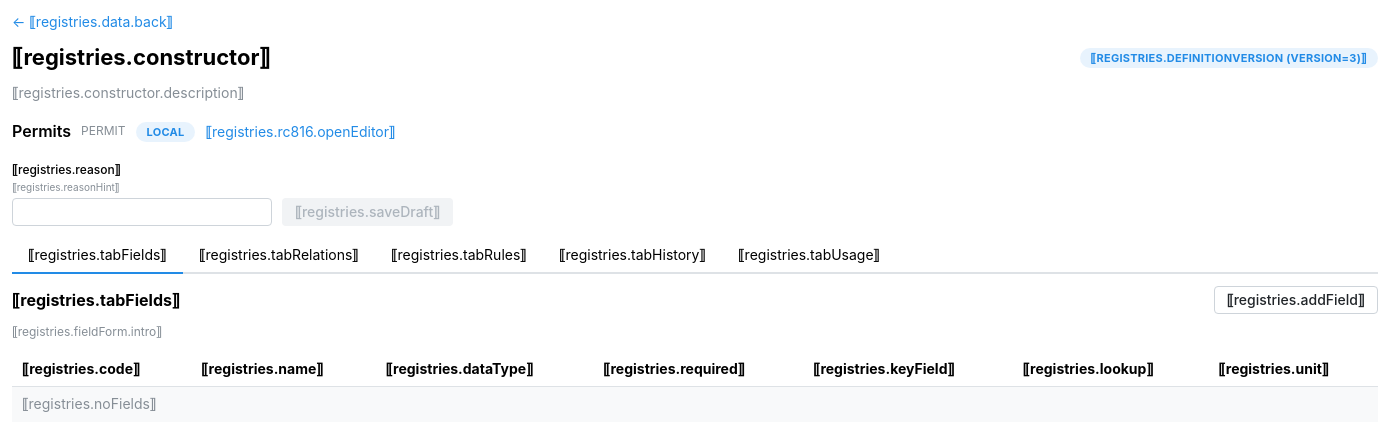
Конструктор довідника: «де використано» › усі посилання показано — «показано N із M» не малюється
Click the tab "⟦registries.tabUsage⟧": {"x": 809, "y": 256} x1=722 y1=238 x2=896 y2=274
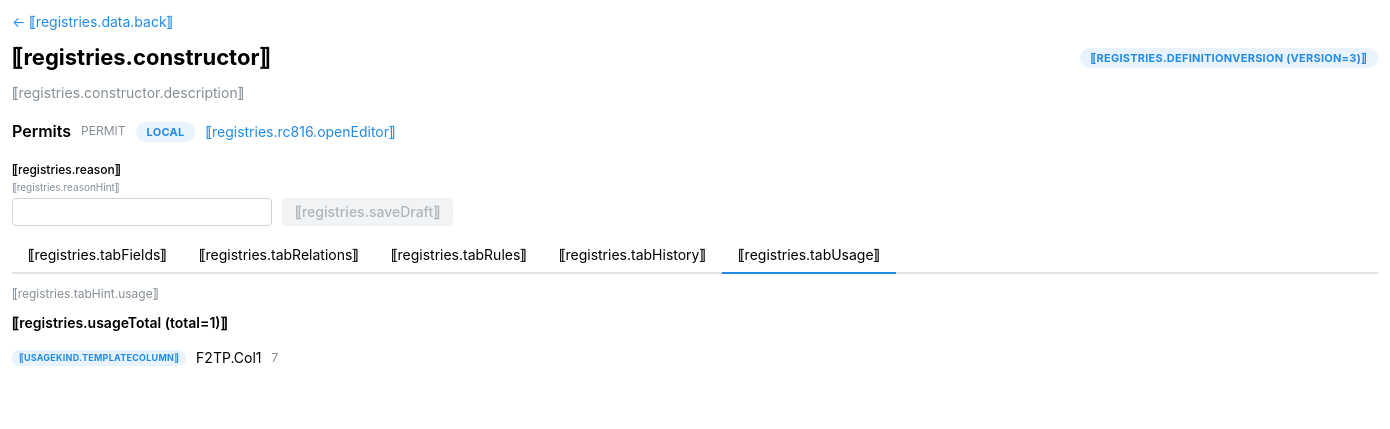
Now the text "F2TP.Col1" is shown, box x1=196 y1=348 x2=262 y2=368
Now the text "⟦registries.usageTotal (total=1)⟧" is shown, box x1=12 y1=314 x2=228 y2=331
